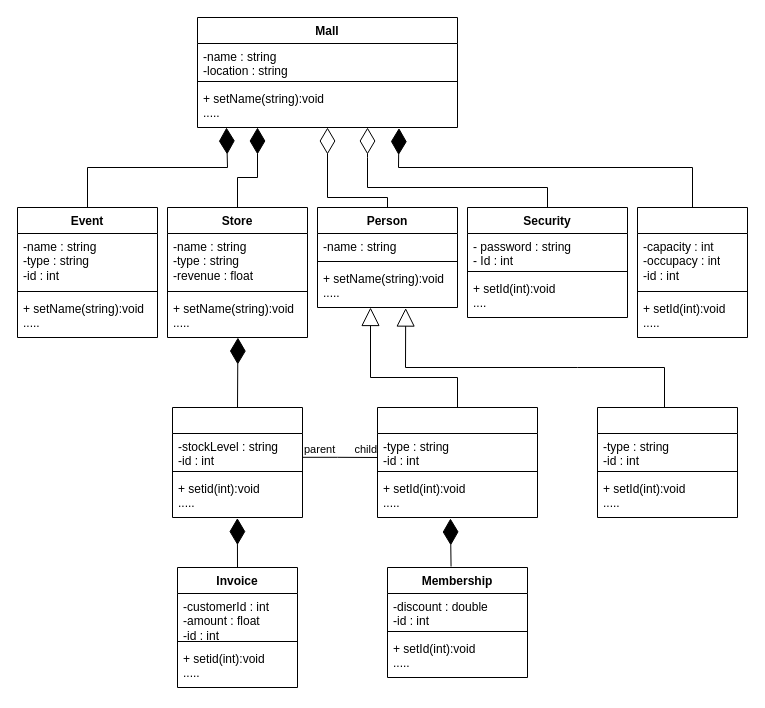
Image size: 765x708. Some labels were removed from this diagram. Here are the shapes that lost their labels. From the top down, the box of each, then its label:
(636, 206, 748, 338): Parking Lot
(172, 406, 302, 518): Inventory
(376, 406, 538, 518): Customer
(596, 406, 738, 518): Employee
